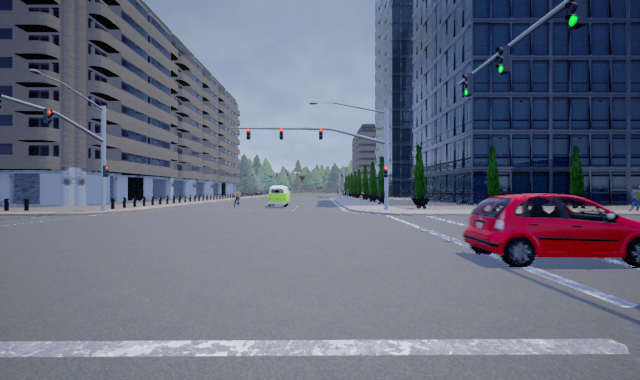bike: (232, 187, 242, 213)
pedestrian: (626, 185, 639, 211)
vehicle: (462, 192, 639, 267), (265, 185, 291, 207)
